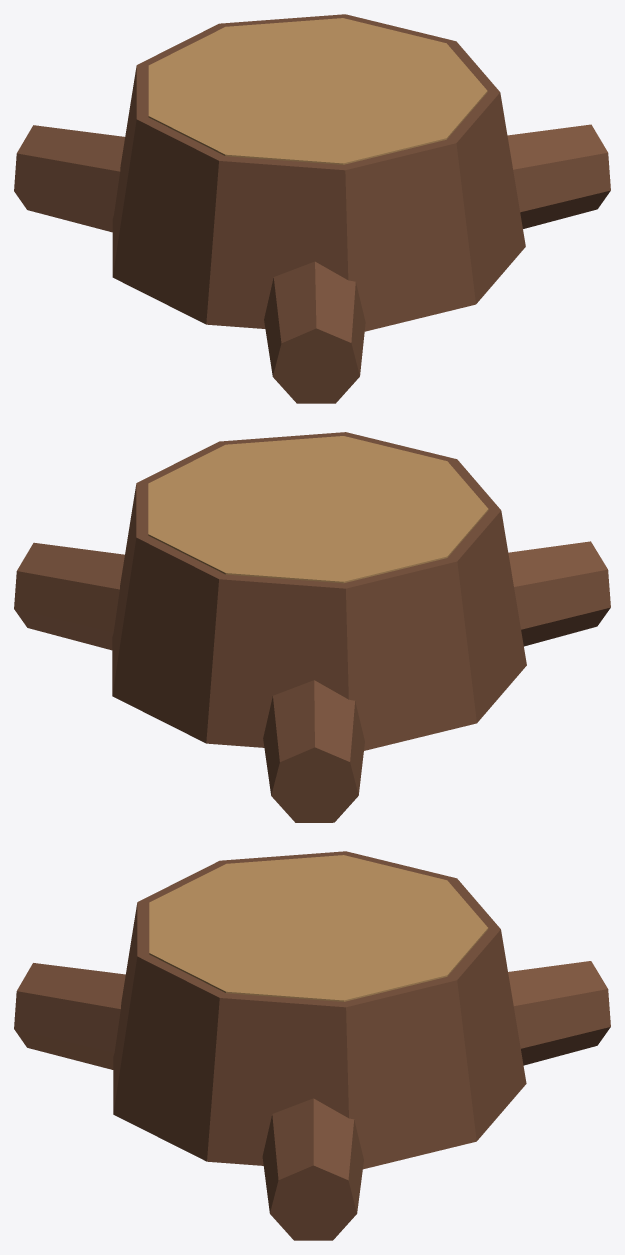
File: tree_stump_large.glb
The picture shows the model from 3 angles, top to bottom: view 1: azimuth 30°, elevation 25°; view 2: azimuth 150°, elevation 25°; view 3: azimuth 270°, elevation 25°; orthographic projection.
Parts seen in each view (by area): view 1: tree_stump_large; view 2: tree_stump_large; view 3: tree_stump_large.
Part boxes in pixels (box(x1,y1,x2,y2)): tree_stump_large: box(14, 14, 610, 403); tree_stump_large: box(14, 432, 610, 822); tree_stump_large: box(14, 851, 610, 1240).
Size of the model in its own units: 1.75 by 0.6545 by 1.96.
